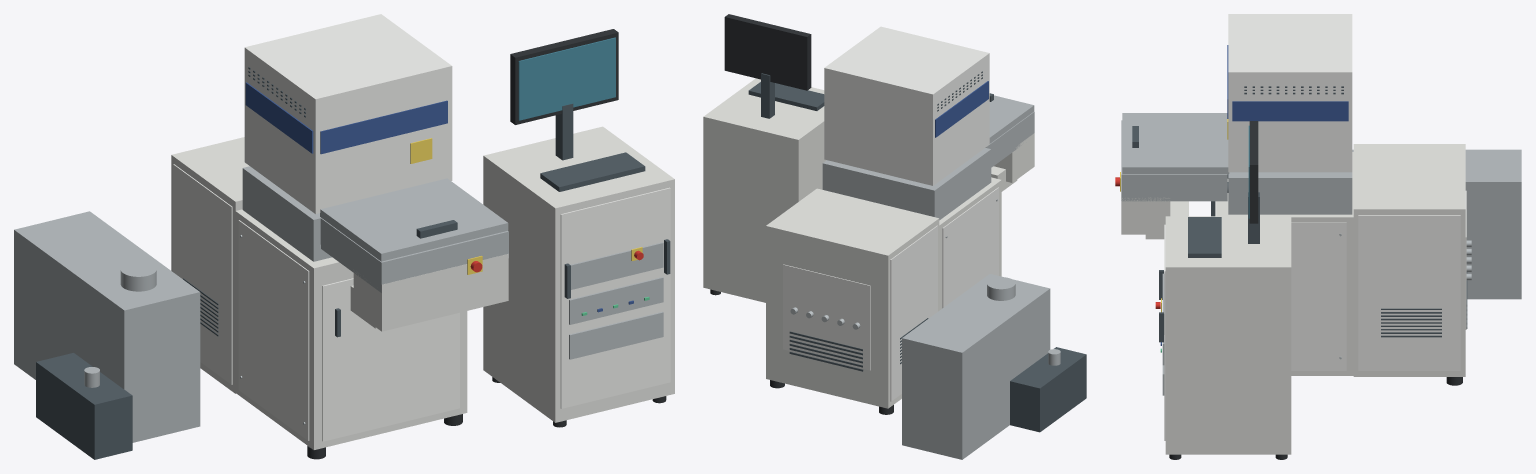
The model's file is cobra.glb.
The picture shows the model from 3 angles, left to right: view 1: azimuth 30°, elevation 25°; view 2: azimuth 150°, elevation 25°; view 3: azimuth 270°, elevation 25°; orthographic projection. The views are drawn at different scales.
Visible parts, largest first — view 1: upper_source_housing, chamber_pump_body, rack_cabinet, front_access_panel, rack_front_panel, lower_access_-0.395, loadlock_lid, rear_access_-0.395, loadlock_pump_body, lower_column, loadlock_front_cowl, monitor_screen (+13 smaller); view 2: upper_source_housing, chamber_pump_body, rear_service_cabinet, rack_cabinet, rear_connector_panel, chamber_base, monitor, rear_access_-0.395, lower_access_-0.395, loadlock_pump_body, loadlock_lid, lower_column (+6 smaller); view 3: rack_cabinet, upper_source_housing, rear_access_0.395, rear_service_cabinet, lower_access_0.395, chamber_pump_body, loadlock_lid, chamber_base, lower_column, loadlock_right_wall, brand_right, loadlock_front_cowl (+5 smaller).
Part boxes in pixels (x1,y1,x2,y2): upper_source_housing: [244, 14, 452, 213]; chamber_pump_body: [14, 211, 200, 442]; rack_cabinet: [483, 126, 674, 422]; front_access_panel: [322, 278, 459, 441]; rack_front_panel: [560, 187, 670, 408]; lower_access_-0.395: [238, 220, 309, 440]; loadlock_lid: [320, 178, 508, 261]; rear_access_-0.395: [173, 164, 232, 384]; loadlock_pump_body: [36, 353, 132, 459]; lower_column: [235, 209, 467, 449]; loadlock_front_cowl: [353, 254, 508, 331]; monitor_screen: [518, 37, 615, 120]; upper_source_housing: [824, 26, 989, 185]; chamber_pump_body: [902, 274, 1050, 459]; rear_service_cabinet: [766, 188, 939, 408]; rack_cabinet: [703, 78, 826, 302]; rear_connector_panel: [783, 264, 870, 370]; chamber_base: [822, 148, 991, 220]; monitor: [724, 14, 811, 90]; rear_access_-0.395: [890, 225, 937, 401]; lower_access_-0.395: [942, 187, 998, 308]; loadlock_pump_body: [1010, 347, 1086, 432]; loadlock_lid: [989, 95, 1034, 143]; lower_column: [939, 177, 1001, 310]; rack_cabinet: [1165, 216, 1291, 454]; upper_source_housing: [1228, 14, 1352, 172]; rear_access_0.395: [1358, 215, 1460, 370]; rear_service_cabinet: [1353, 144, 1465, 376]; lower_access_0.395: [1291, 222, 1346, 370]; chamber_pump_body: [1352, 149, 1521, 299]; loadlock_lid: [1122, 113, 1229, 173]; chamber_base: [1228, 172, 1352, 214]; lower_column: [1216, 152, 1354, 375]; loadlock_right_wall: [1121, 173, 1227, 197]; brand_right: [1232, 101, 1348, 121]; loadlock_front_cowl: [1121, 197, 1170, 234].
Bounding box in the file's own units: 2.53 × 1.74 × 2.06.
